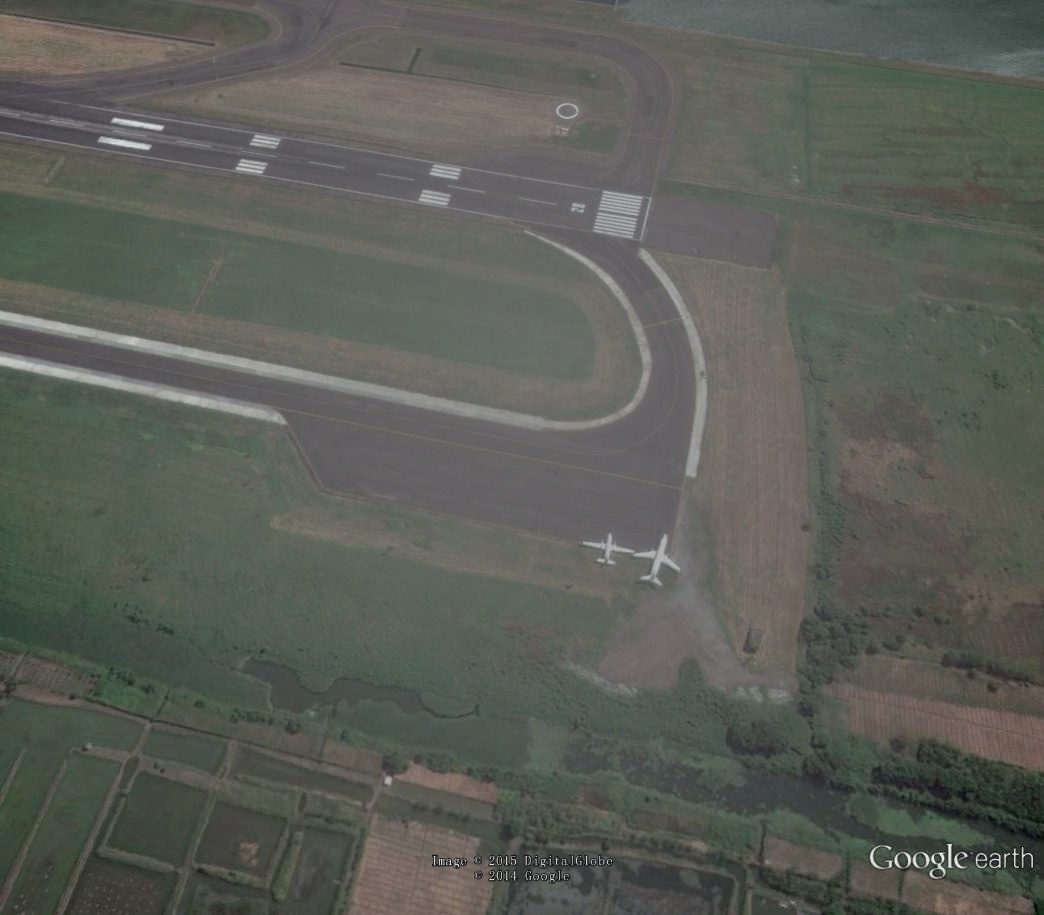aircraft: (633, 532, 684, 591), (579, 532, 638, 569)
